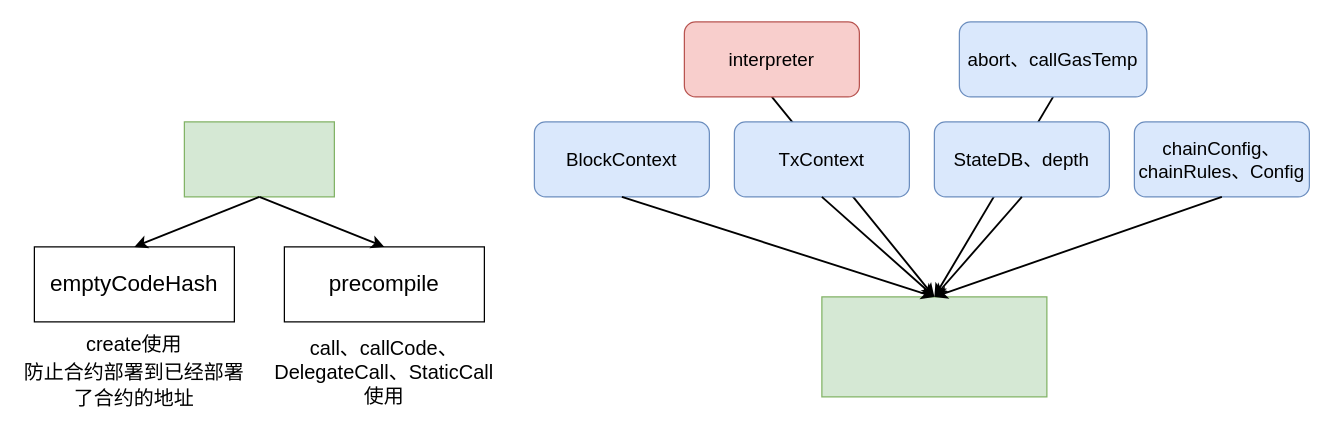
Some shapes in this 1331 by 438 pixel diagram are drawn without their labels. The box of each missing label's shape, as (x1, y1, x2, y2) in pixels:
EVM run a contract: (821, 296, 1047, 397)
Tools: (183, 121, 334, 197)
